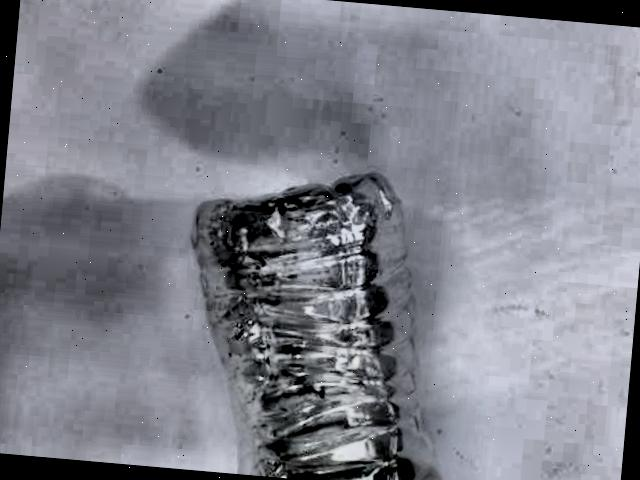Bottles: (171, 156, 450, 480)
